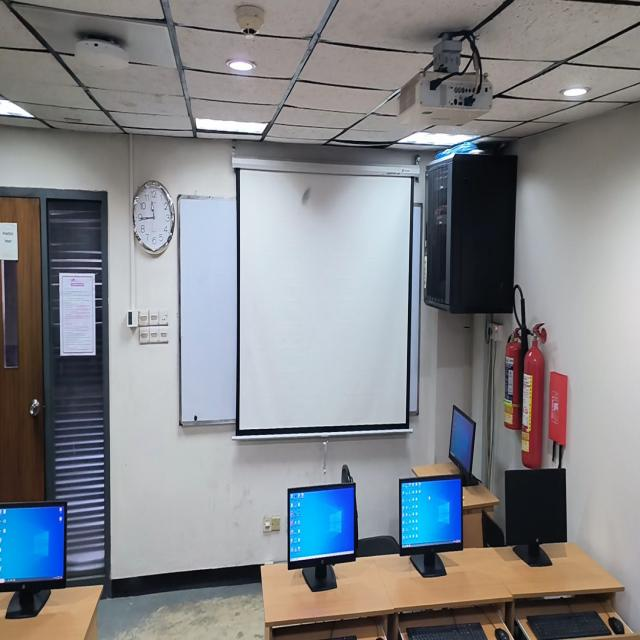Chair: (355, 535, 399, 557), (341, 464, 354, 483)
Fire Extinguisher: (521, 324, 547, 468), (504, 328, 521, 430)
Keyboard: (527, 612, 611, 639), (407, 623, 487, 639)
Light: (195, 118, 267, 135), (399, 132, 472, 146), (0, 98, 34, 118), (226, 59, 255, 71), (562, 87, 588, 98)
Monitor: (0, 504, 66, 619), (288, 483, 358, 591), (399, 475, 462, 577), (505, 469, 567, 566), (449, 406, 477, 486)
Mouse: (609, 613, 631, 633), (495, 629, 510, 639)
Projector: (397, 72, 493, 126)
